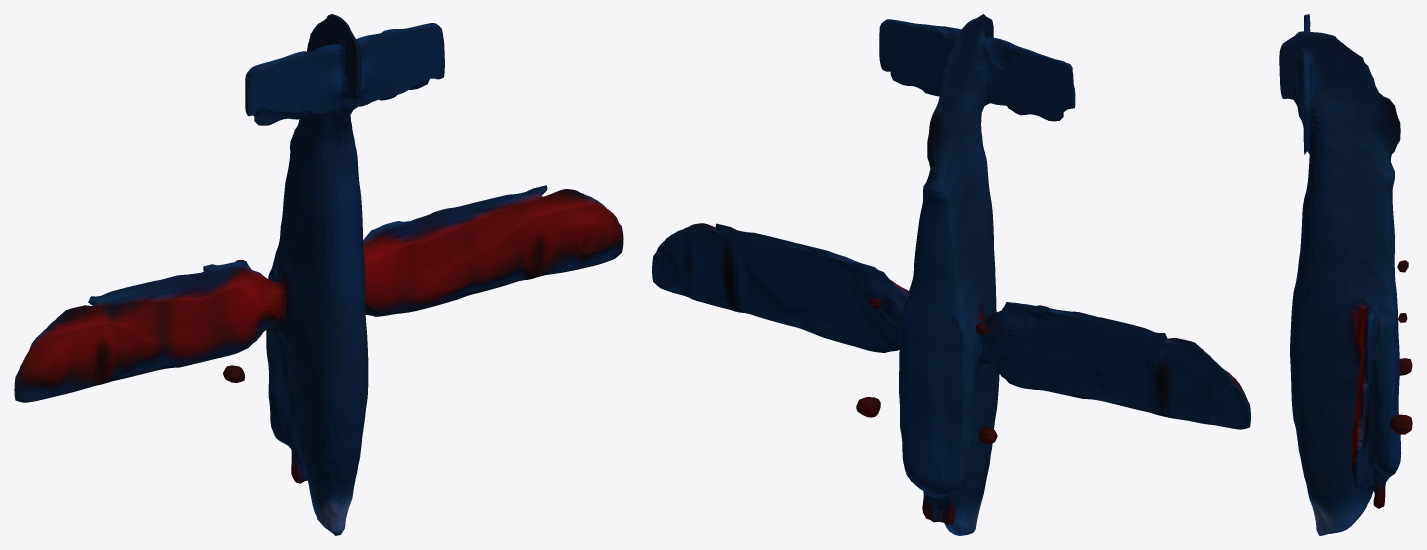
Rendered from AirPlane_1749999930.obj.
The picture shows the model from 3 angles, left to right: view 1: azimuth 30°, elevation 25°; view 2: azimuth 150°, elevation 25°; view 3: azimuth 270°, elevation 25°; orthographic projection. The views are drawn at different scales.
Bounding box in the file's own units: 1.98 × 1.61 × 0.3878.
